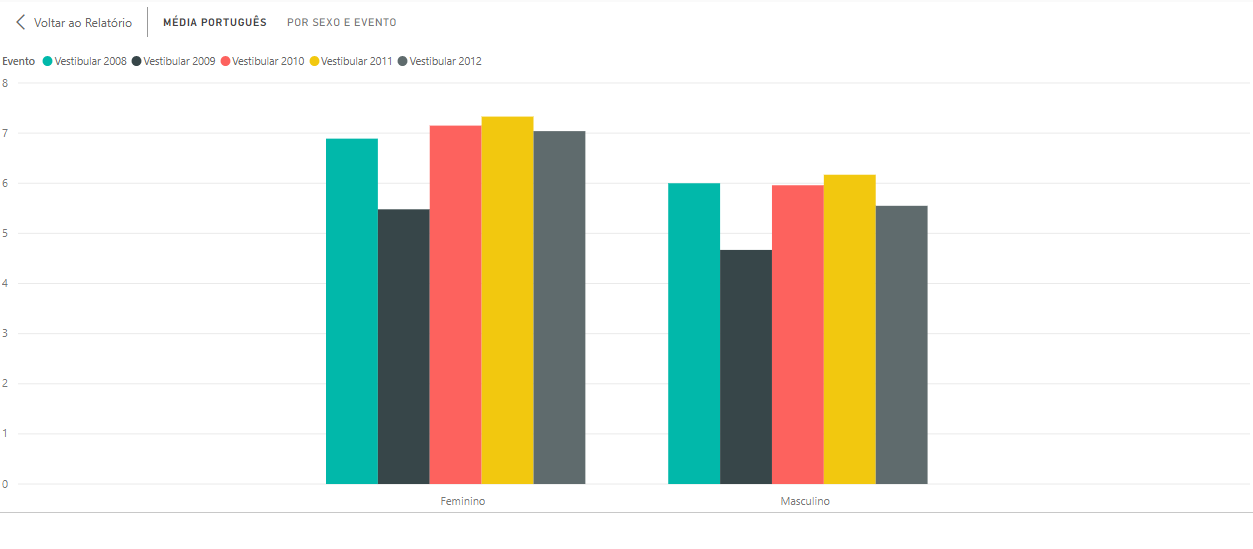

What the dashboard file says about the page in this screenshot:
{"tool":"powerbi","page":{"name":"Português - Sexo X Evento","canvas":[1280,720],"ordinal":2},"visuals":[{"type":"clusteredColumnChart","fields":{"Y":["Sum(public desempenho_fato.Média Português)"],"Category":["public desempenho_fato.Sexo"],"Series":["public desempenho_fato.Evento"]},"box":[9.9,19.7,1268.7,698.9],"z":1}]}

Visuals, with their boxes on the page's 1280x720 design canvas (x1, y1, x2, y2). These are canvas units, not pixel positions in the 1253x549 screenshot, which may show the page scaled, cropped or inside an application window:
clusteredColumnChart - Sum(public desempenho_fato.Média Português) x public desempenho_fato.Sexo: (10, 20, 1279, 719)
